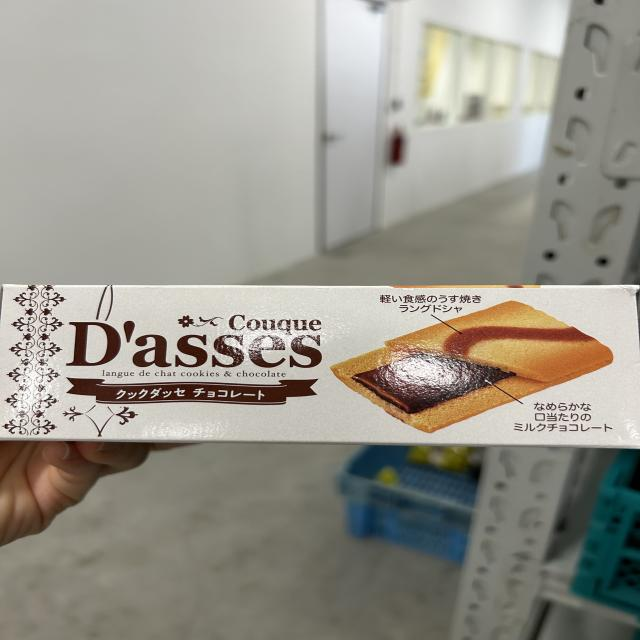object_name: (0, 287, 637, 446)
